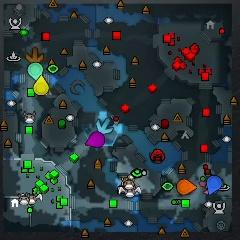p1: (207, 175, 222, 196)
p2: (28, 63, 43, 80)
p3: (84, 131, 105, 147)
p4: (33, 75, 48, 95)
p5: (177, 180, 197, 196)
x1: (199, 181, 209, 194)
x3: (96, 118, 114, 134)
x5: (26, 47, 43, 61)
